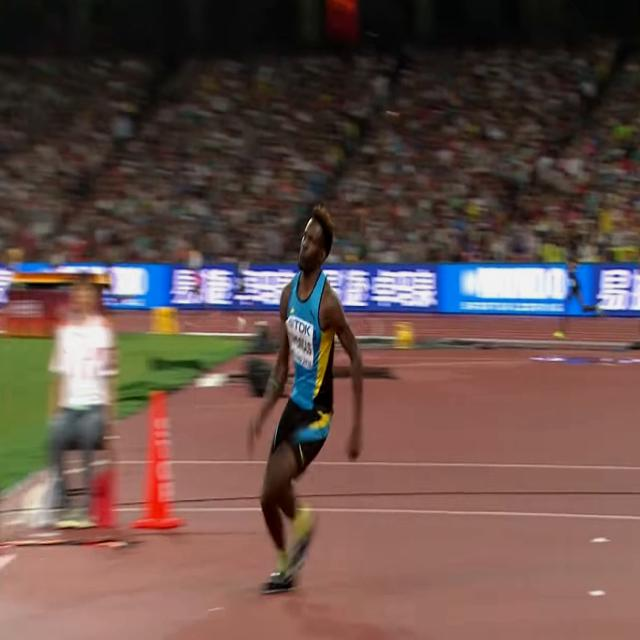run: (243, 196, 362, 590)
